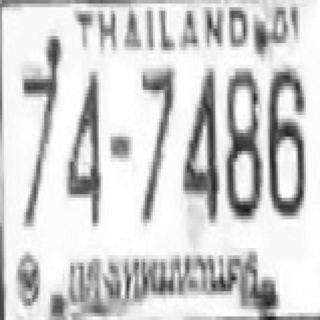N04: (64, 68, 101, 223), (181, 65, 217, 219)
N06: (267, 65, 305, 212)
N07: (19, 34, 61, 225), (139, 65, 173, 219)
N08: (224, 65, 261, 216)
P04: (64, 240, 266, 310)
